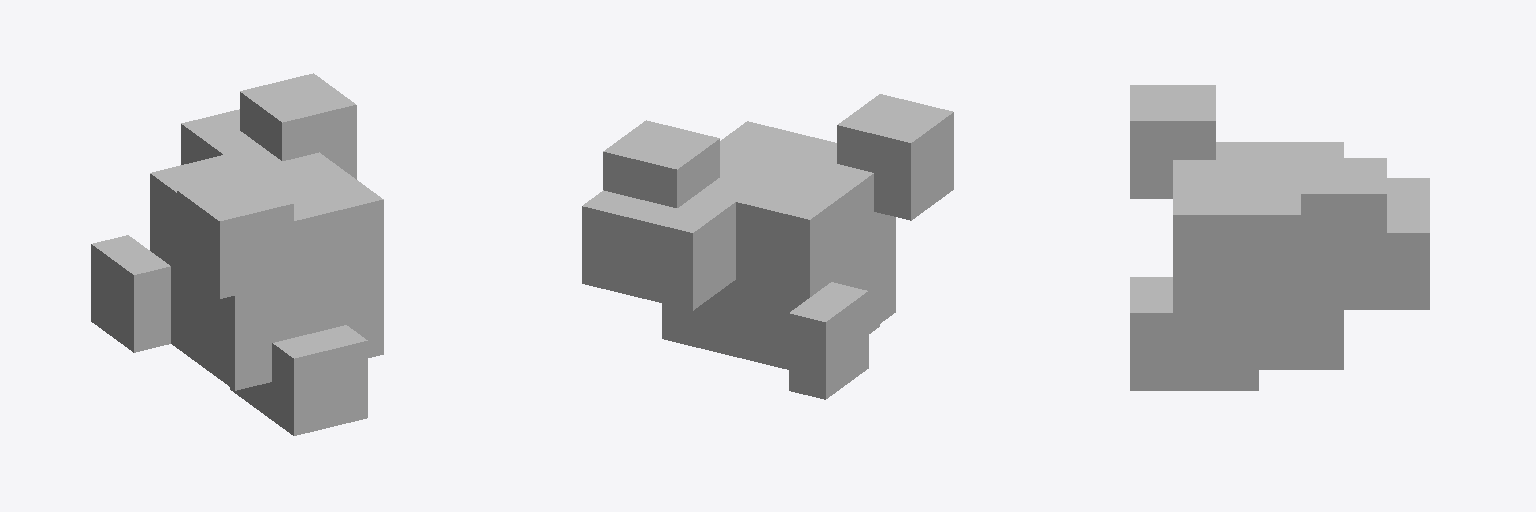
The picture shows the model from 3 angles: view 1: azimuth 30°, elevation 25°; view 2: azimuth 150°, elevation 25°; view 3: azimuth 270°, elevation 25°; orthographic projection.
Parts seen in each view (by area): view 1: Level-1_v1_Cube.210; view 2: Level-1_v1_Cube.210; view 3: Level-1_v1_Cube.210.
Boxes of the visible parts, x1=… form: Level-1_v1_Cube.210: x1=91, y1=73, x2=383, y2=435; Level-1_v1_Cube.210: x1=582, y1=94, x2=953, y2=399; Level-1_v1_Cube.210: x1=1130, y1=85, x2=1429, y2=390.
Size of the model in its own units: 18 by 18 by 21.